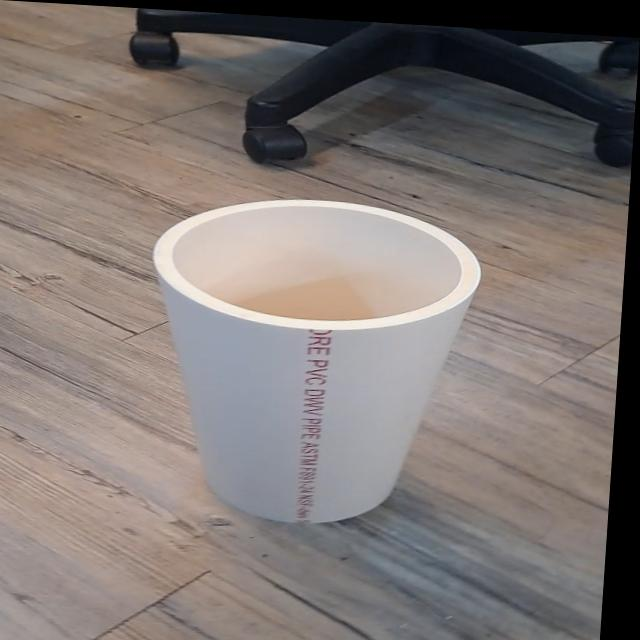CORAL: (117, 188, 500, 543)
